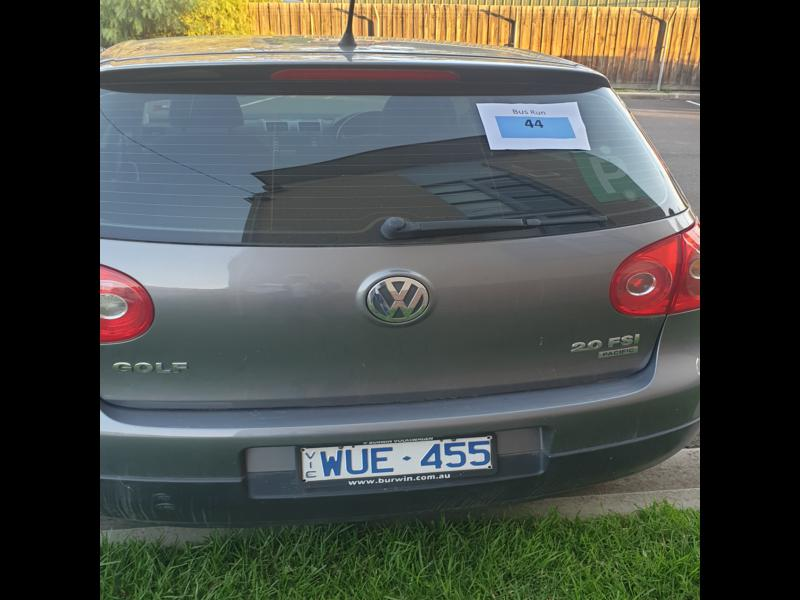BusRun: (495, 114, 578, 140)
PlateNo: (301, 437, 496, 482)
